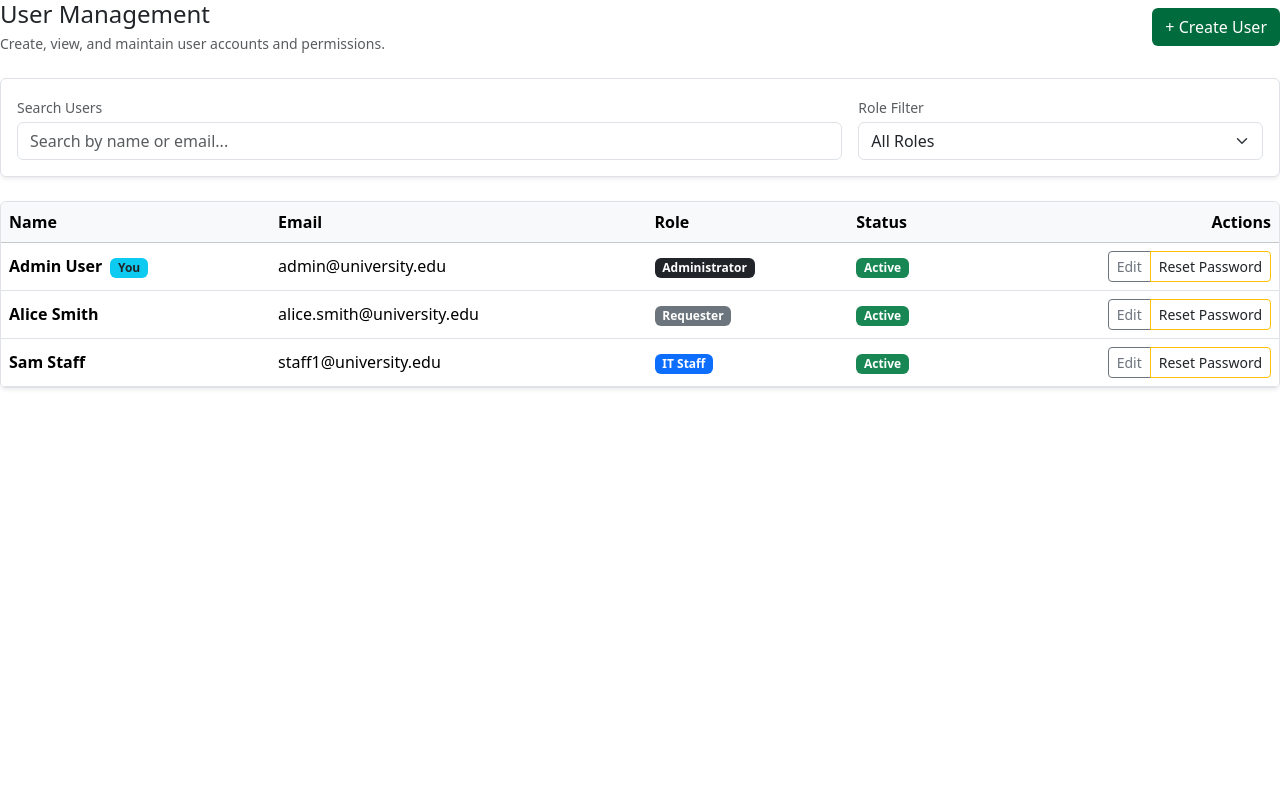
Test case: UserManagement Component (Issue #27) › 5. Handles duplicate email error gracefully during user creation
The image size is (1280, 800).
Step 1. Click the button "+ Create User" → (1216, 27), box [1152,8,1279,46]
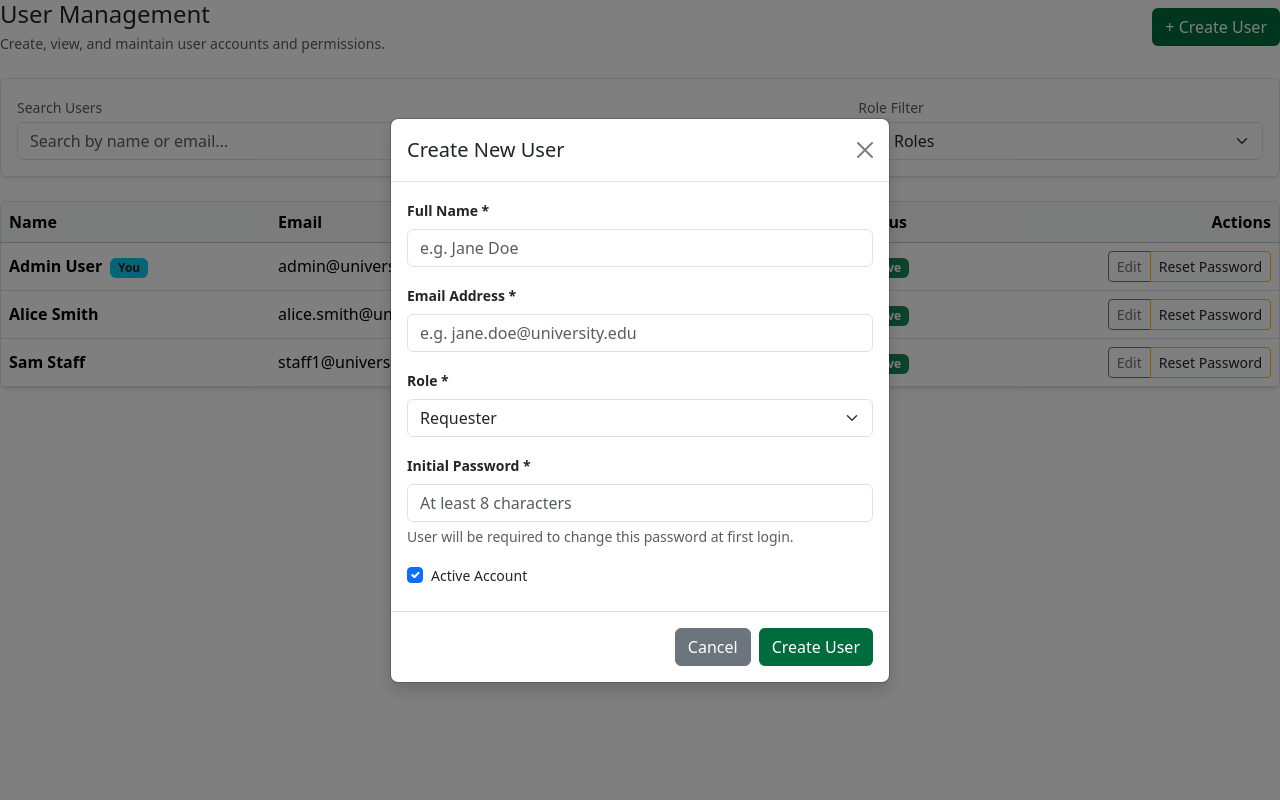
Step 2. Type "Duplicate User" into the field labelled "Full Name *" → (640, 248), box [407,228,873,266]
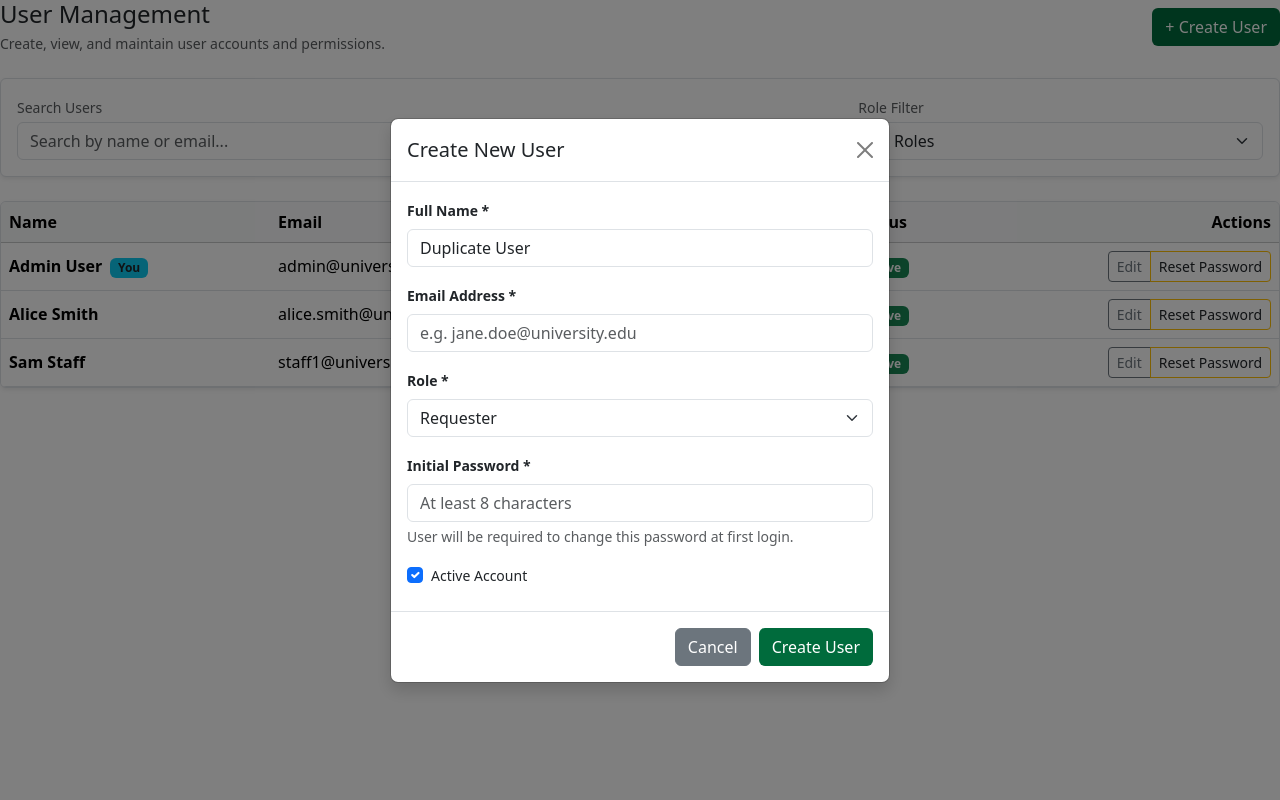
Step 3. Type "alice.smith@university.edu" into the field labelled "Email Address *" → (640, 332), box [407,314,873,352]
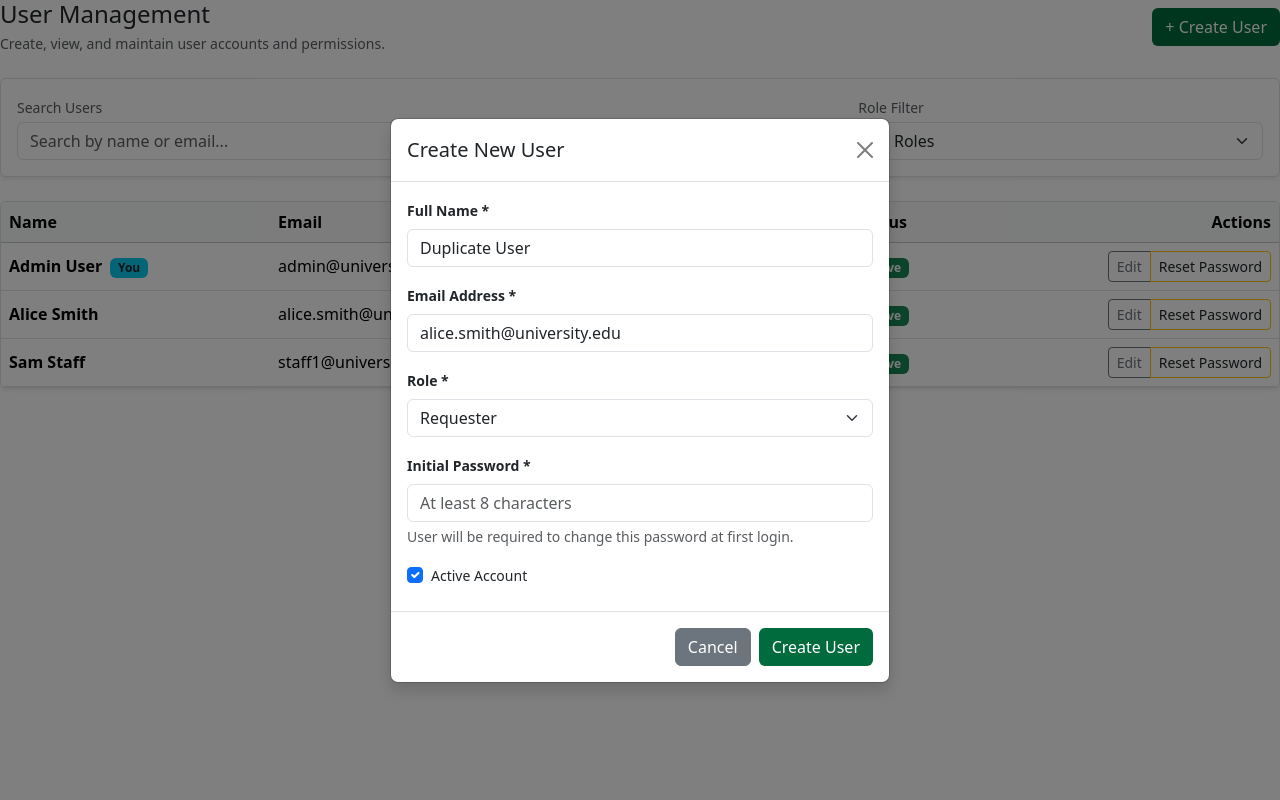
Step 4. Type "Password123!" into the password field labelled "Initial Password *" → (640, 502), box [407,484,873,522]
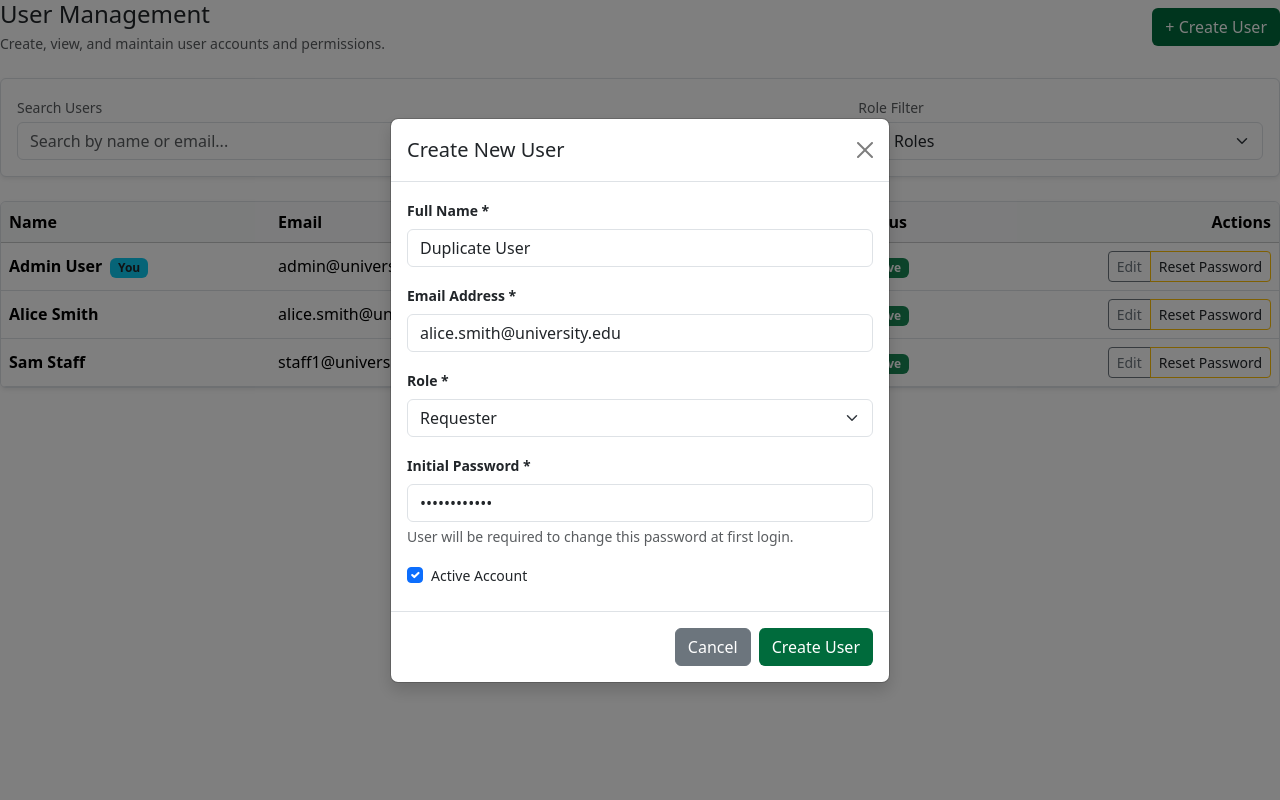
Step 5. Click the button "Create User" → (816, 646), box [759,628,873,666]
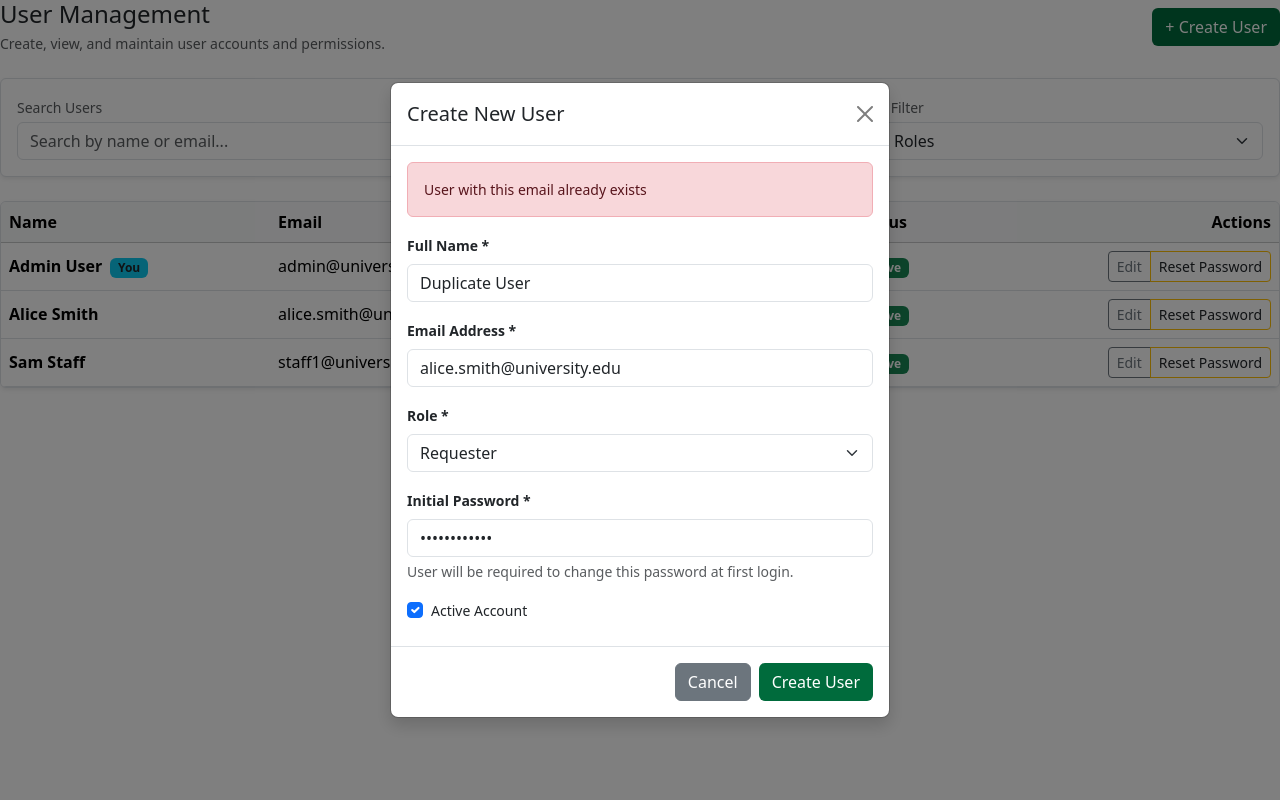
Check: the text "User with this email already exists" is shown, box [407,162,873,217]
